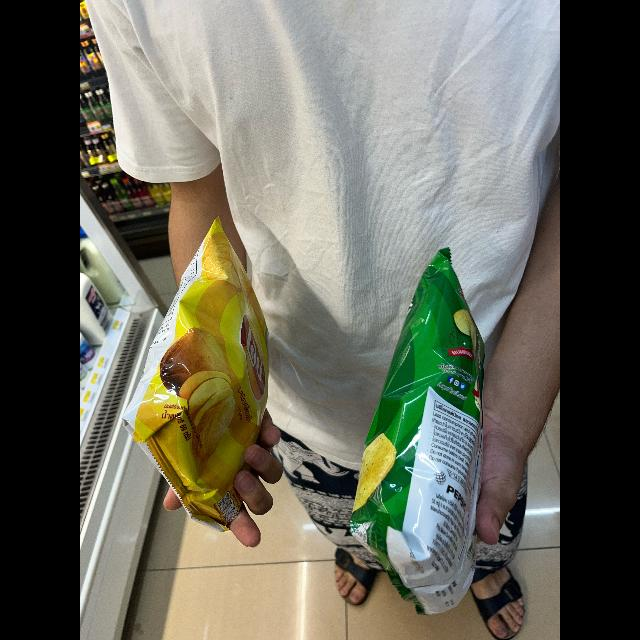snack_bag: (352, 236, 512, 614), (125, 211, 293, 517)
